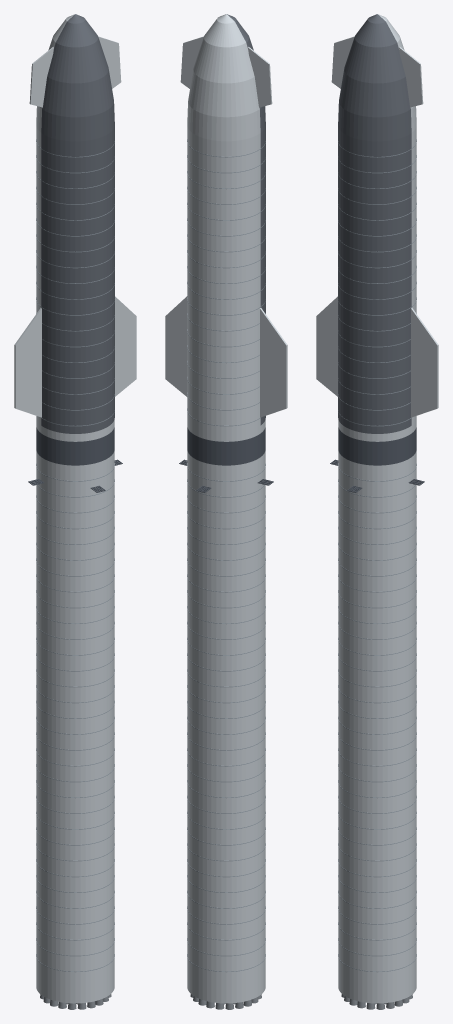
File: starship.glb
3 renders of one model, left to right at view 1: azimuth 30°, elevation 25°; view 2: azimuth 150°, elevation 25°; view 3: azimuth 330°, elevation 25°, orthographic.
Visible parts, largest first — view 1: super_heavy_tank, ship_heat_shield, ship_aft_flap_1, super_heavy_engine_skirt, hot_stage_ring, ship_aft_flap_0, ship_tank, ship_forward_flap_1, ship_forward_flap_0, ship_nose; view 2: super_heavy_tank, ship_tank, ship_nose, ship_aft_flap_1, super_heavy_engine_skirt, hot_stage_ring, ship_aft_flap_0, ship_heat_shield, ship_forward_flap_1, ship_forward_flap_0; view 3: super_heavy_tank, ship_heat_shield, ship_aft_flap_0, super_heavy_engine_skirt, hot_stage_ring, ship_aft_flap_1, ship_tank, ship_forward_flap_0, ship_forward_flap_1, ship_nose.
Part boxes in pixels (left/top/right/bottom): super_heavy_tank: left=36, top=451, right=114, bottom=979; ship_heat_shield: left=41, top=14, right=114, bottom=433; ship_aft_flap_1: left=14, top=308, right=41, bottom=417; super_heavy_engine_skirt: left=36, top=965, right=114, bottom=1003; hot_stage_ring: left=36, top=427, right=114, bottom=465; ship_aft_flap_0: left=115, top=296, right=136, bottom=396; ship_tank: left=36, top=126, right=114, bottom=441; ship_forward_flap_1: left=29, top=47, right=53, bottom=107; ship_forward_flap_0: left=98, top=36, right=121, bottom=88; ship_nose: left=36, top=14, right=75, bottom=132; super_heavy_tank: left=187, top=451, right=265, bottom=979; ship_tank: left=187, top=127, right=265, bottom=441; ship_nose: left=187, top=14, right=260, bottom=141; ship_aft_flap_1: left=260, top=308, right=287, bottom=417; super_heavy_engine_skirt: left=187, top=965, right=265, bottom=1003; hot_stage_ring: left=187, top=427, right=265, bottom=465; ship_aft_flap_0: left=165, top=296, right=187, bottom=396; ship_heat_shield: left=220, top=14, right=265, bottom=425; ship_forward_flap_1: left=248, top=47, right=272, bottom=107; ship_forward_flap_0: left=180, top=36, right=203, bottom=88; super_heavy_tank: left=338, top=451, right=416, bottom=979; ship_heat_shield: left=338, top=14, right=411, bottom=433; ship_aft_flap_0: left=411, top=308, right=438, bottom=417; super_heavy_engine_skirt: left=338, top=965, right=416, bottom=1003; hot_stage_ring: left=338, top=427, right=416, bottom=465; ship_aft_flap_1: left=316, top=296, right=337, bottom=396; ship_tank: left=338, top=126, right=416, bottom=441; ship_forward_flap_0: left=399, top=47, right=423, bottom=107; ship_forward_flap_1: left=331, top=36, right=354, bottom=88; ship_nose: left=377, top=14, right=416, bottom=132.
Size of the model in its own units: 16 by 124 by 11.87.
